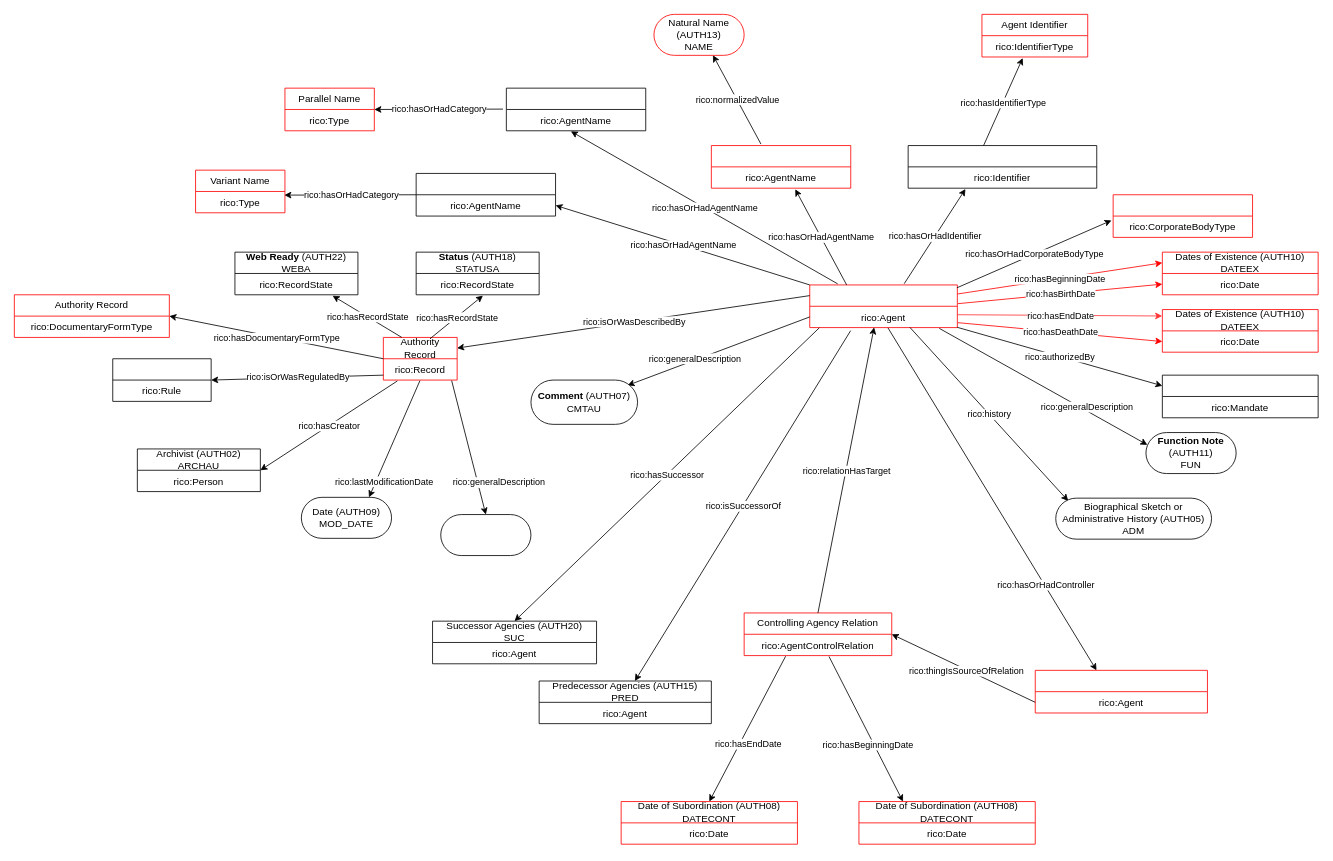
Some shapes in this 1333 by 861 pixel diagram are drawn without their labels. Here are the shapes that lost their labels. From the top down, the box of each, then its label:
(506, 87, 646, 131): Parallel Names (AUTH14) PAR
(711, 145, 851, 188): Heading (AUTH23) HEADING
(907, 145, 1097, 188): Agency Reference Code (AUTH01) REFA
(415, 173, 556, 216): Variant Names (AUTH21) VAR
(1112, 194, 1253, 237): Authority Type (AUTH03) AUTHTP
(809, 284, 957, 328): Heading (AUTH24) HEADING
(112, 358, 211, 401): Rules (AUTH16) RULES
(1162, 374, 1318, 418): Authorizing Agent (AUTH04) AA
(440, 514, 531, 556): Source Note (AUTH17) SOURCE
(1034, 670, 1207, 713): Controlling Agencies (AUTH08) CONTAG
